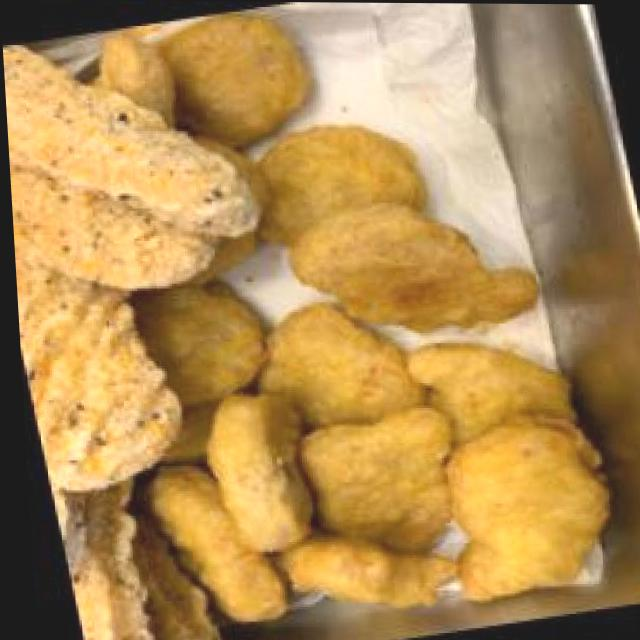chicken_nuggets: (3, 60, 640, 599)
